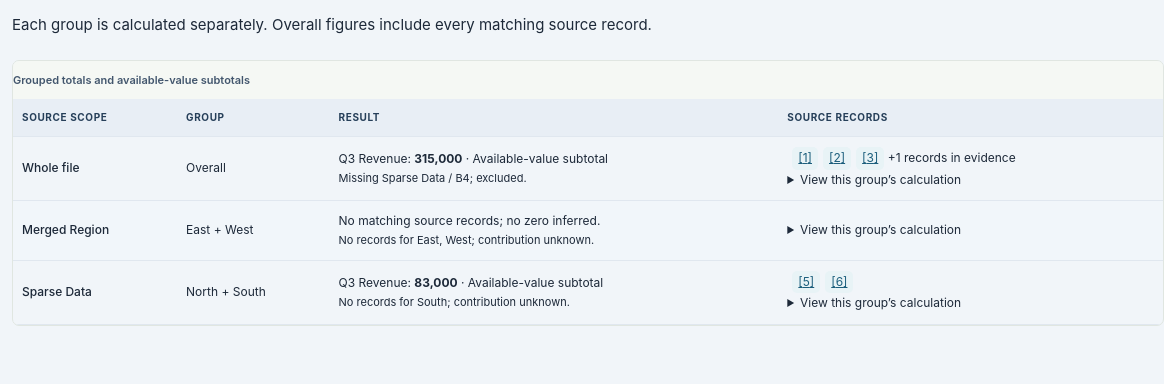
Scenario: group operand detail starts collapsed and reveals original cells
Expected: the text "Merged Region / row 2: Q3 Revenue: 45000 (B2)" is not shown
What coordinates should you click on to do the following:
click the heading "View this group’s calculation" below "records in evidence"
I would click on:
 (881, 179)
Its box is [800, 172, 961, 187].
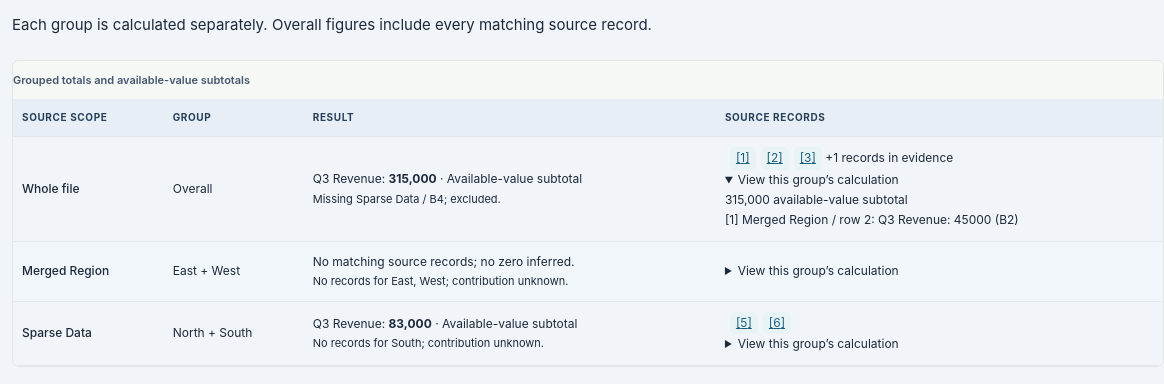
Result: the text "[1] Merged Region / row 2: Q3 Revenue: 45000 (B2)" is shown at [725, 212, 1019, 227]
